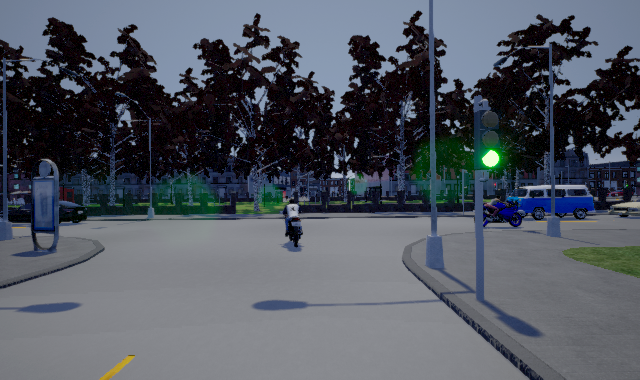motobike: (281, 198, 306, 248), (483, 195, 519, 228)
traffic_light: (474, 99, 502, 182)
vehicle: (511, 184, 596, 220), (8, 198, 88, 223), (608, 199, 640, 217)
